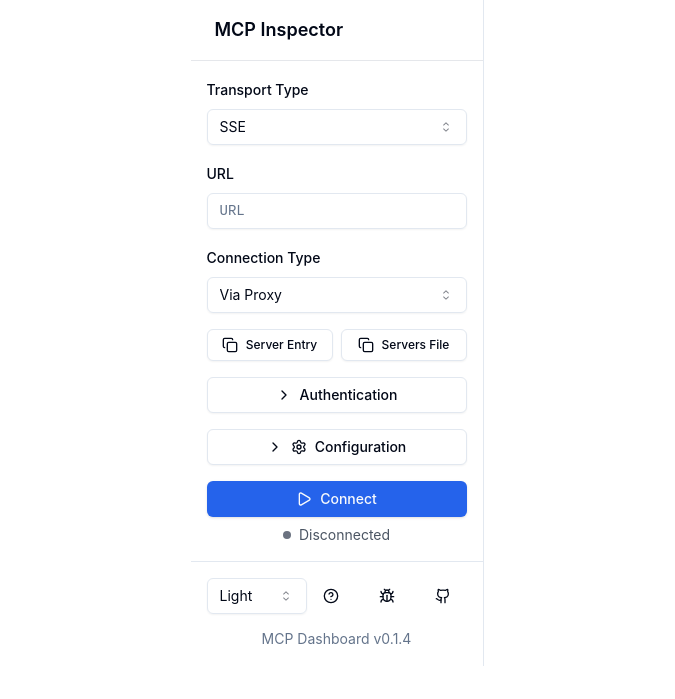
Test case: Sidebar › Authentication › should maintain header name when toggling auth section
Click the button with test id "auth-button" at x=336, y=395, box [206,377,466,413]
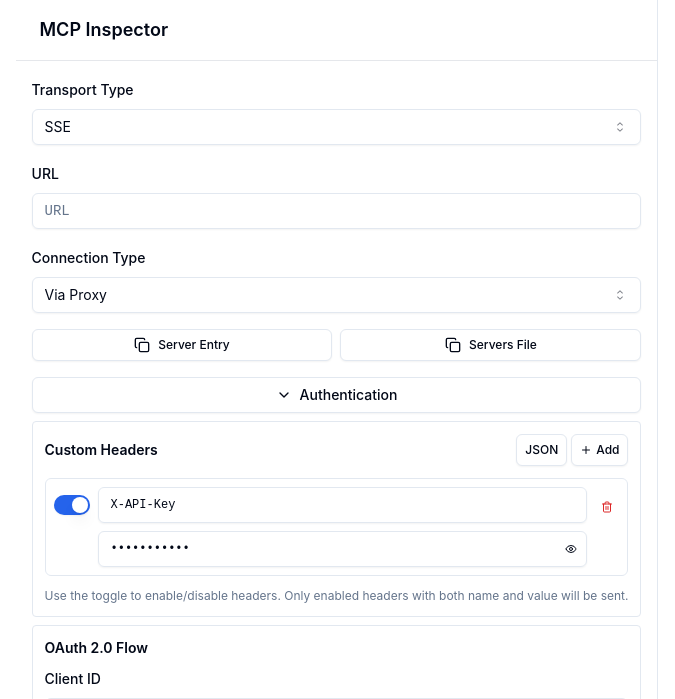
Check: the field with test id "header-name-input-0" holds "X-API-Key", box [98,487,588,523]
Click the button with test id "auth-button" at x=336, y=395, box [32,377,642,413]
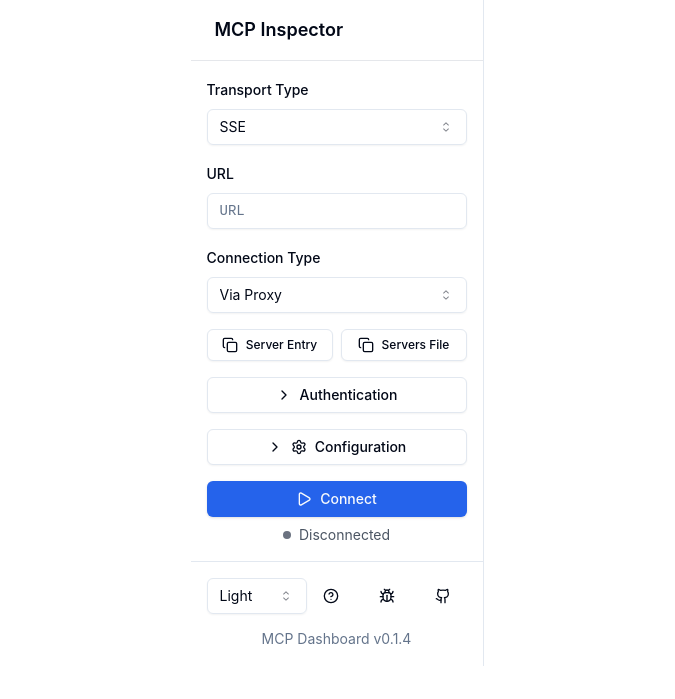
Click the button with test id "auth-button" at x=336, y=395, box [206,377,466,413]
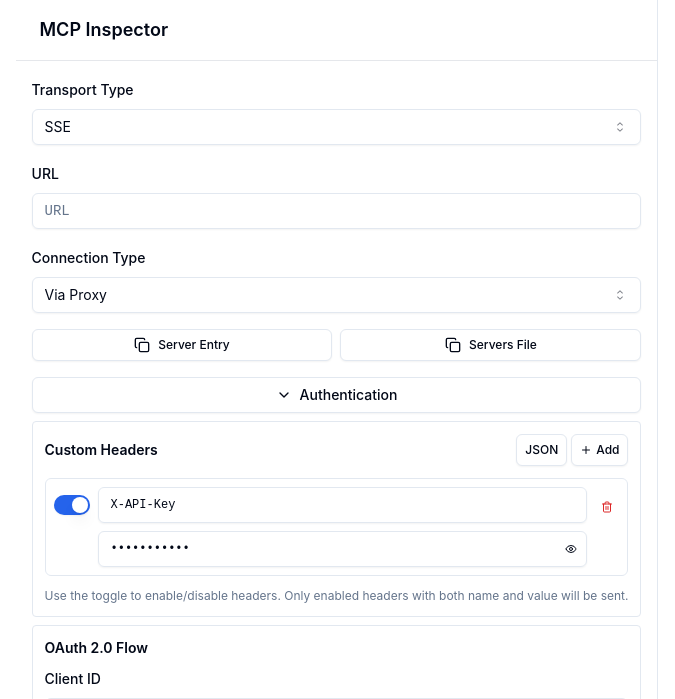
Check: the field with test id "header-name-input-0" holds "X-API-Key", box [98,487,588,523]
